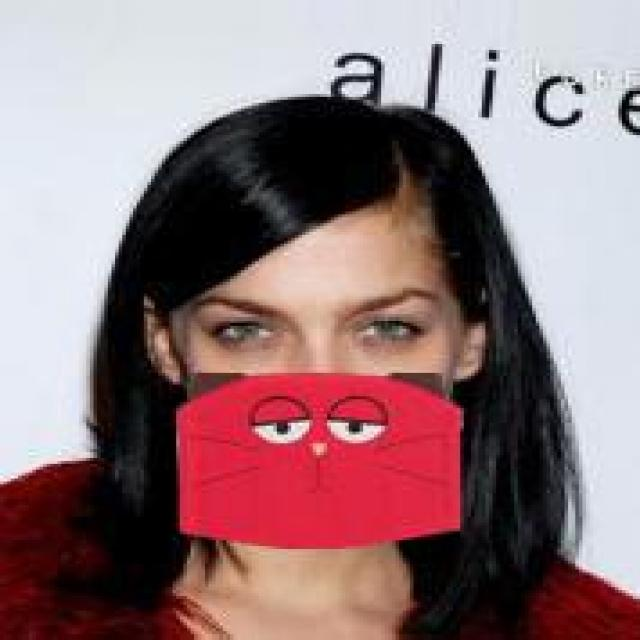mask: (137, 91, 557, 567)
